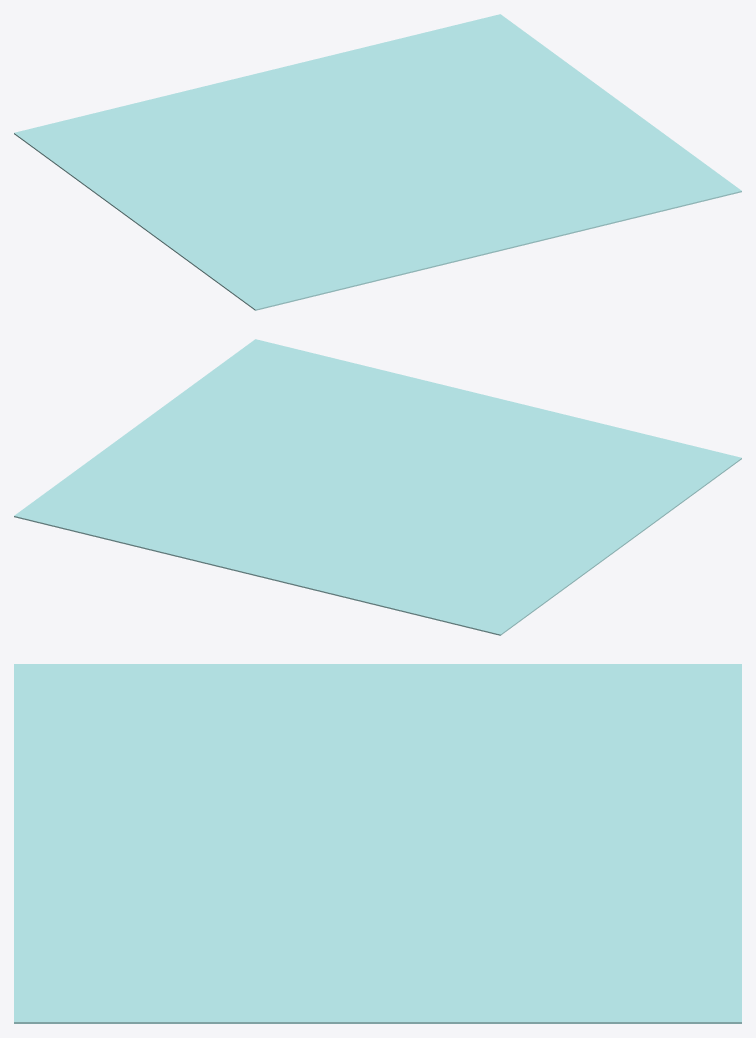
The model's file is Level 176 roll red signal into green.fbx.
3 views of the same model, one above another, from view 1: azimuth 30°, elevation 25°; view 2: azimuth 150°, elevation 25°; view 3: azimuth 270°, elevation 25° (orthographic). The views are drawn at different scales.
Parts seen in each view (by area): view 1: Blend; view 2: Blend; view 3: Blend.
Part boxes in pixels (x1,y1,x2,y2): Blend: [14, 14, 741, 310]; Blend: [14, 339, 741, 635]; Blend: [14, 664, 741, 1023].
Size of what is drawn, in the model's own units: 384 by 1 by 330.
